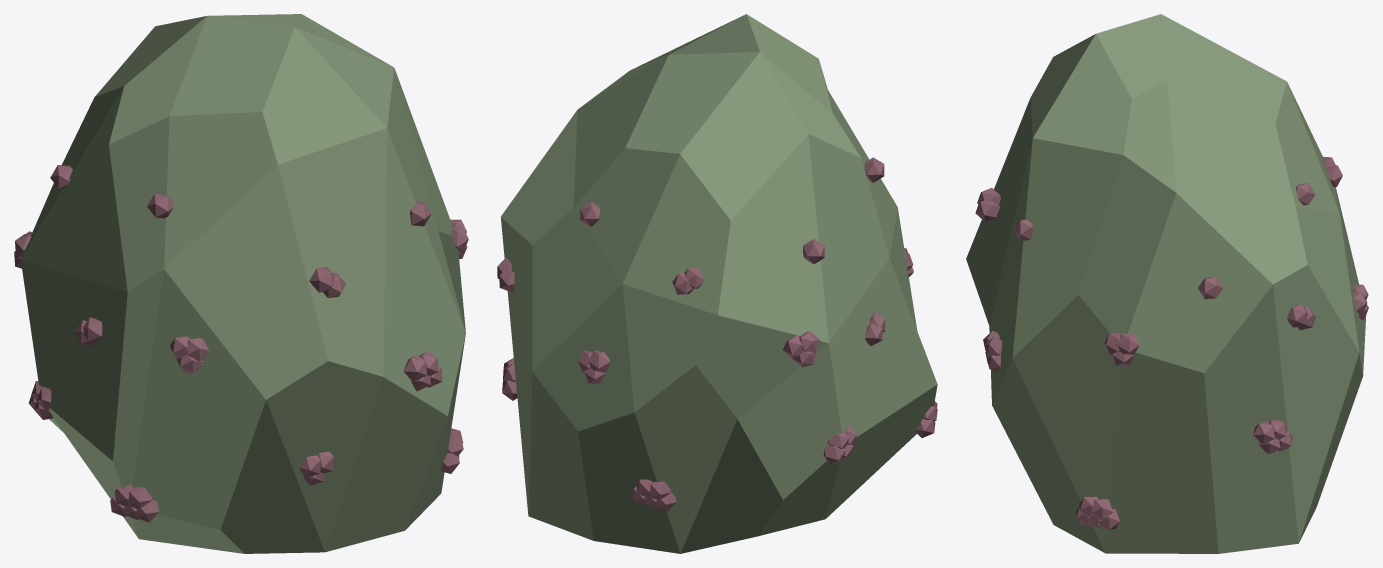
The model's file is BerryBush6.fbx.
3 renders of one model, left to right at view 1: azimuth 30°, elevation 25°; view 2: azimuth 150°, elevation 25°; view 3: azimuth 270°, elevation 25°, orthographic. The views are drawn at different scales.
Parts seen in each view (by area): view 1: Berry_Tall_bush2; view 2: Berry_Tall_bush2; view 3: Berry_Tall_bush2.
Boxes of the visible parts, x1,y1,x2,y2 form: Berry_Tall_bush2: (14, 14, 468, 553); Berry_Tall_bush2: (497, 14, 937, 553); Berry_Tall_bush2: (966, 14, 1368, 553).
Size of the model in its own units: 7.3 by 8.88 by 7.14.
